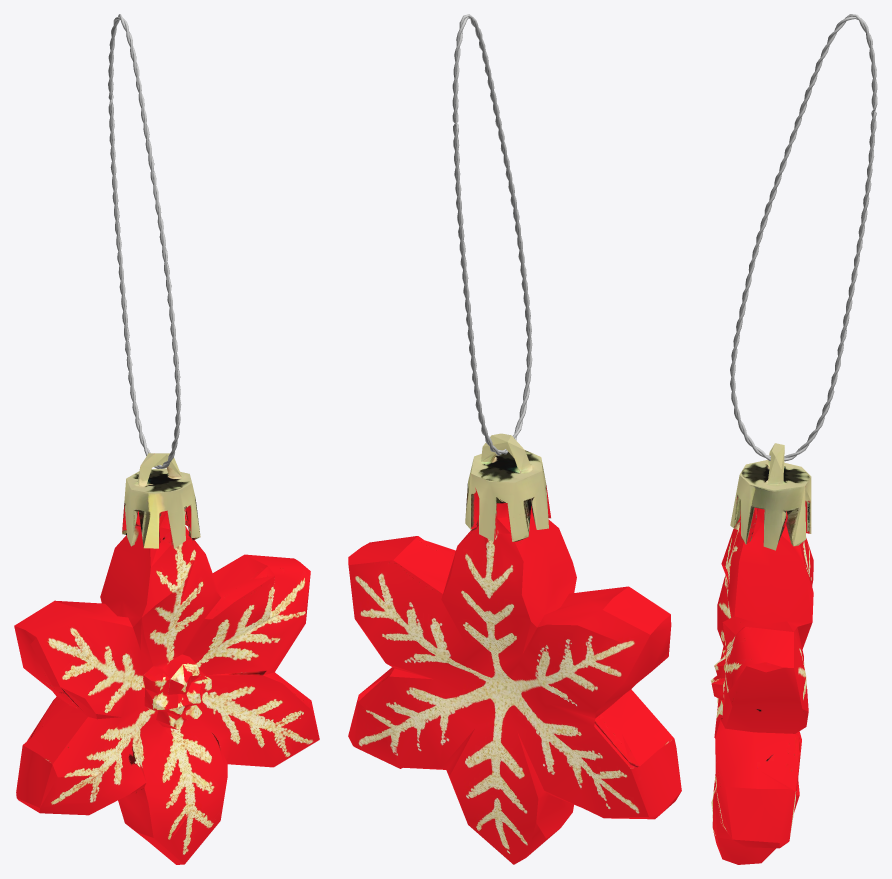
Rendered from red_Glitter_Holly.glb.
3 views of the same model, side by side, from view 1: azimuth 30°, elevation 25°; view 2: azimuth 150°, elevation 25°; view 3: azimuth 270°, elevation 25° (orthographic). The views are drawn at different scales.
Visible parts, largest first — view 1: Mesh1.0, GN Instance; view 2: Mesh1.0, GN Instance; view 3: Mesh1.0, GN Instance.
Part boxes in pixels (x1,y1,x2,y2): Mesh1.0: (14, 453, 319, 864); GN Instance: (108, 14, 181, 468); Mesh1.0: (348, 433, 681, 864); GN Instance: (452, 14, 532, 455); Mesh1.0: (710, 443, 813, 864); GN Instance: (730, 14, 877, 461).
Size of the model in its own units: 0.0522 by 0.1417 by 0.0252.
Materials: 2 (1 with a texture image).
